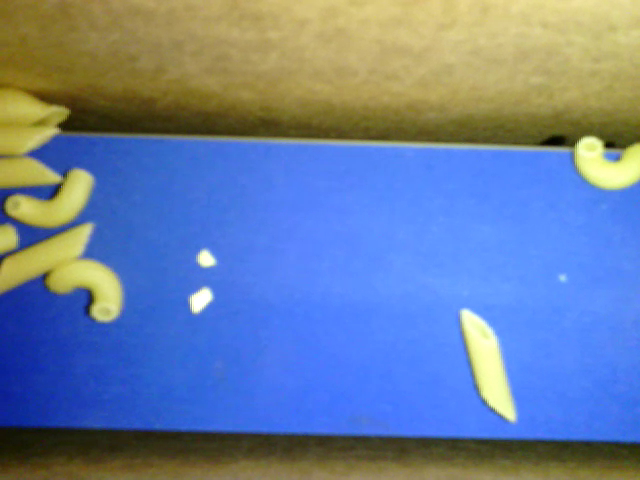elbow: (4, 165, 94, 225), (48, 256, 126, 324), (575, 135, 639, 190)
penne: (455, 307, 517, 422), (1, 220, 95, 292), (1, 121, 66, 158), (1, 154, 64, 189)
shell: (1, 88, 71, 134)
